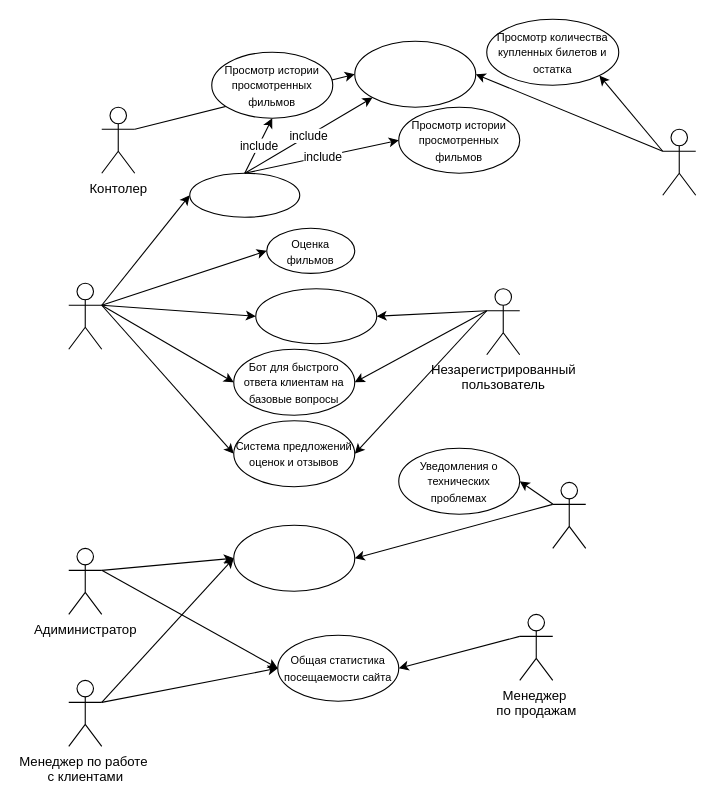
This 719x805 diagram has some shape labels left out. The shapes that lost their labels are listed below. From the top down, each one's box as (x1, y1, x2, y2) in pixels, then its label:
(354, 40, 476, 107): Информация о покупке билета в личном кабинете
(662, 128, 696, 195): Кассир
(189, 172, 300, 217): Информация в личном кабинете
(68, 282, 102, 349): Зарегистрированный пользователь
(255, 288, 377, 344): Просмотр доступных фильмов
(552, 481, 586, 548): Технический специалист
(233, 524, 355, 591): Статистика посещаемости кинотеатра
